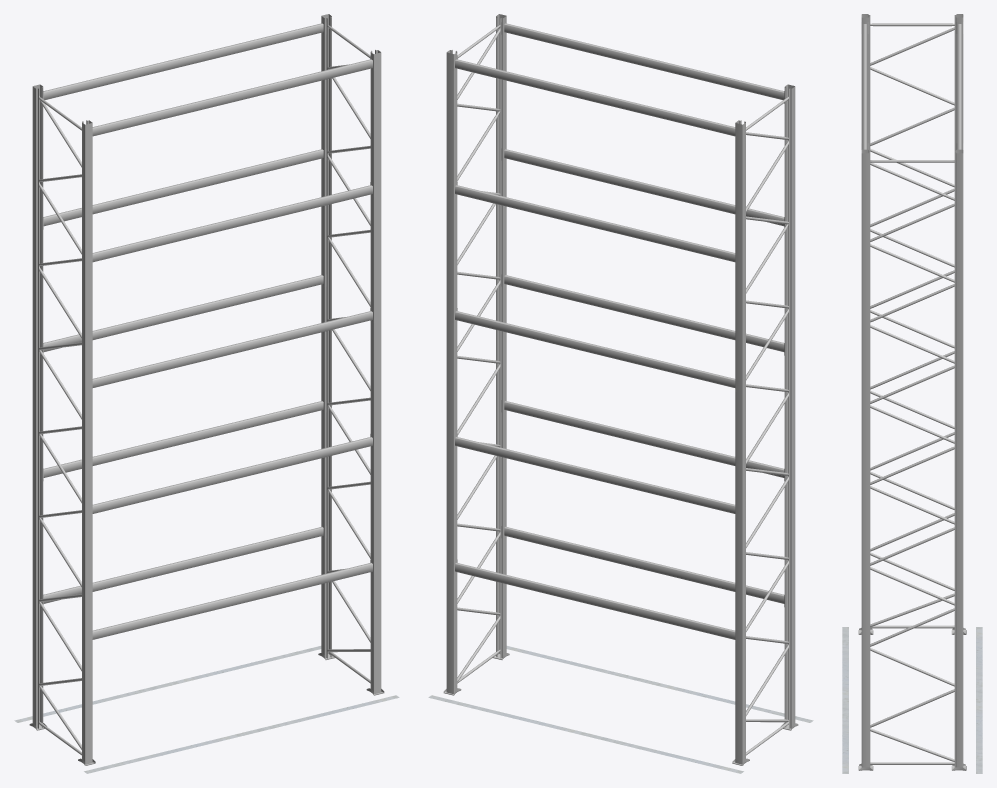
The model's file is Warehouse_Shelves_Single.FBX.
The picture shows the model from 3 angles, left to right: view 1: azimuth 30°, elevation 25°; view 2: azimuth 150°, elevation 25°; view 3: azimuth 270°, elevation 25°; orthographic projection. The views are drawn at different scales.
Parts seen in each view (by area): view 1: Warehouse_Shelves_1; view 2: Warehouse_Shelves_1; view 3: Warehouse_Shelves_1.
Boxes of the visible parts, x1,y1,x2,y2 form: Warehouse_Shelves_1: (14,14,399,773); Warehouse_Shelves_1: (428,14,813,773); Warehouse_Shelves_1: (842,14,982,773).
Size of the model in its own units: 156 by 305 by 63.
